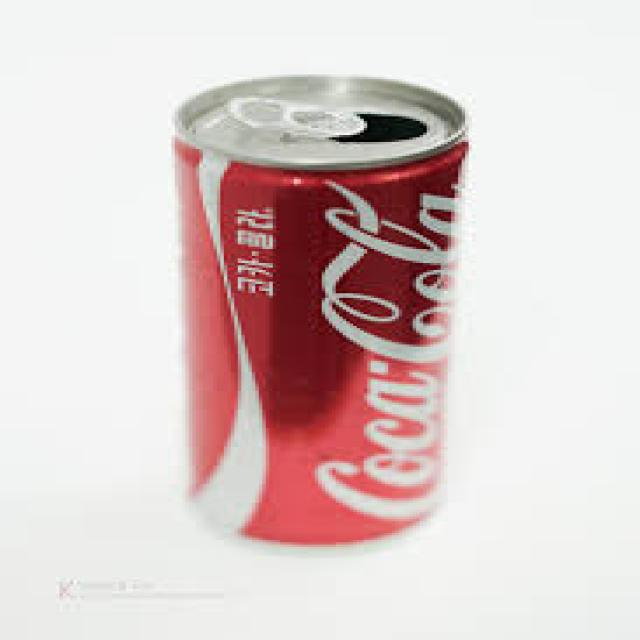Coca-Cola: (146, 65, 484, 557)
